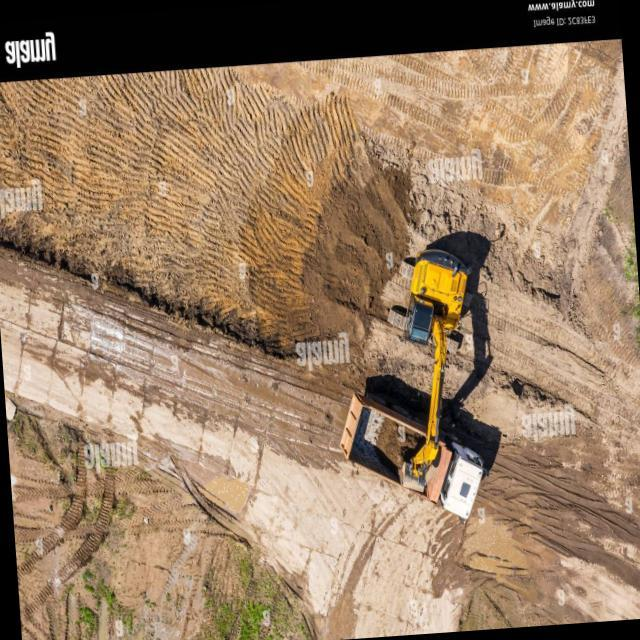excavator: (397, 249, 471, 492)
